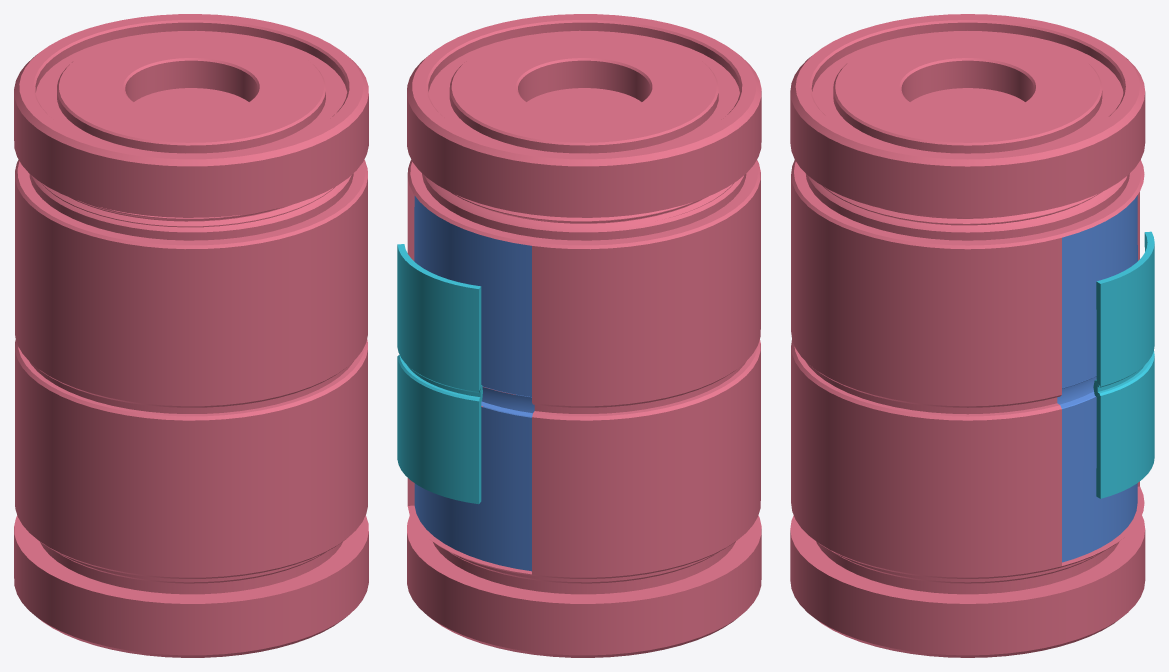
The model's file is Reactor.fbx.
3 views of the same model, side by side, from view 1: azimuth 30°, elevation 25°; view 2: azimuth 150°, elevation 25°; view 3: azimuth 270°, elevation 25° (orthographic).
Visible parts, largest first — view 1: Cannister, Lid; view 2: Cannister, Lid, Holo_Screen; view 3: Cannister, Lid, Holo_Screen.
Boxes of the visible parts, box(x1,y1,x2,y2) form: Cannister: box(14, 160, 368, 657); Lid: box(14, 14, 368, 227); Cannister: box(407, 159, 761, 657); Lid: box(407, 14, 761, 223); Holo_Screen: box(397, 244, 482, 504); Cannister: box(790, 160, 1145, 657); Lid: box(790, 14, 1145, 225); Holo_Screen: box(1093, 231, 1154, 498).
Size of the model in its own units: 200 by 310 by 205.
